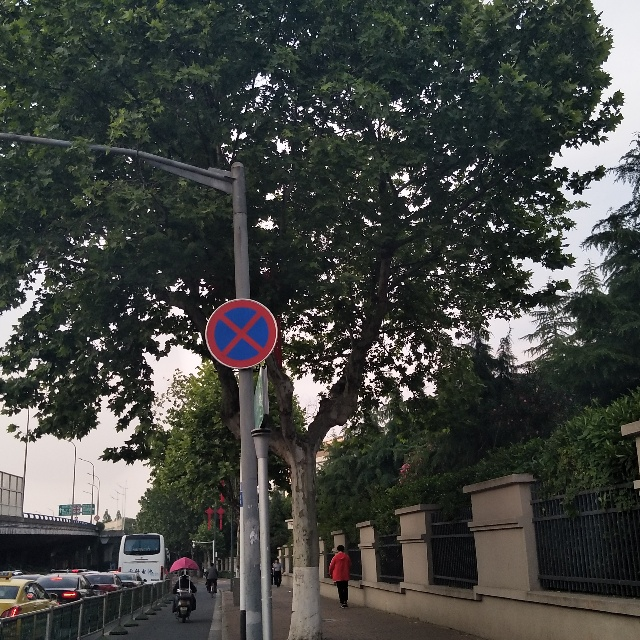stop: (214, 306, 271, 361)
